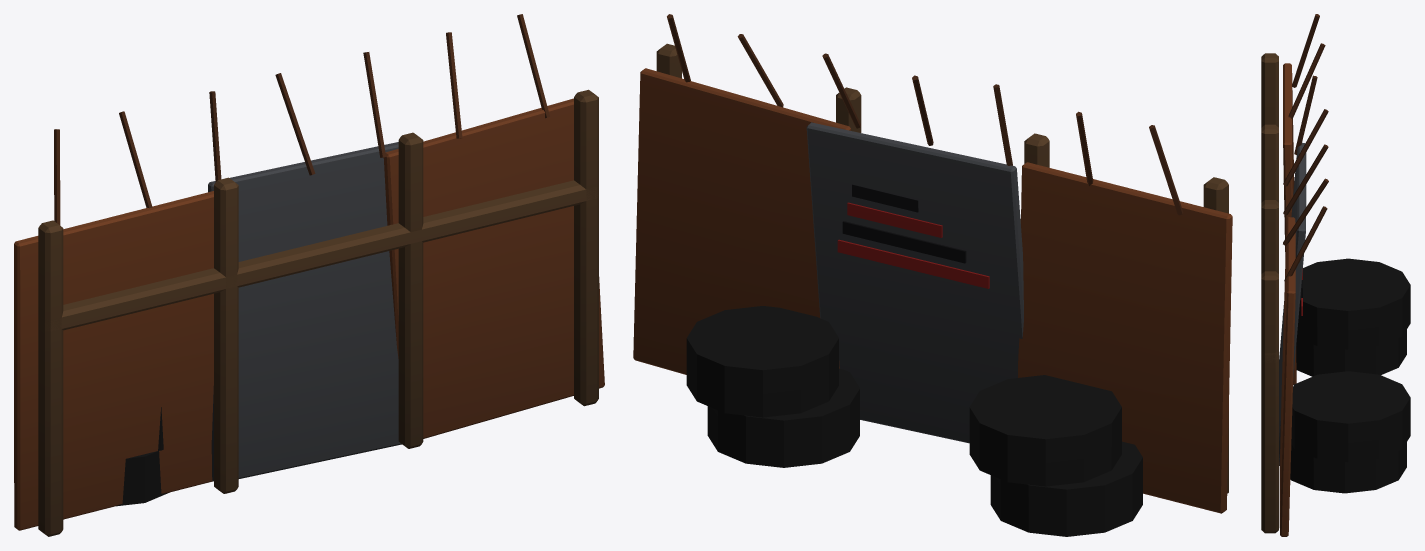
Rendered from barricade_scrap.glb.
The picture shows the model from 3 angles, left to right: view 1: azimuth 30°, elevation 25°; view 2: azimuth 150°, elevation 25°; view 3: azimuth 270°, elevation 25°; orthographic projection. The views are drawn at different scales.
Parts seen in each view (by area): view 1: barricade_scrap; view 2: barricade_scrap; view 3: barricade_scrap.
Part boxes in pixels (x1,y1,x2,y2): barricade_scrap: (14,14,604,536); barricade_scrap: (633,14,1232,536); barricade_scrap: (1261,14,1410,536).
Size of the model in its own units: 3.17 by 1.97 by 0.84.
